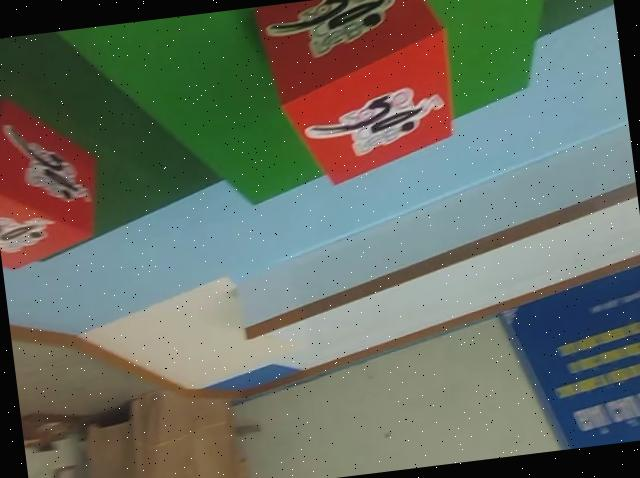R1: (252, 0, 464, 198), (0, 78, 102, 276)
